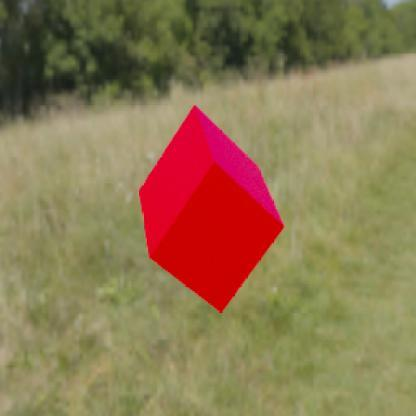cube: (138, 104, 284, 312)
